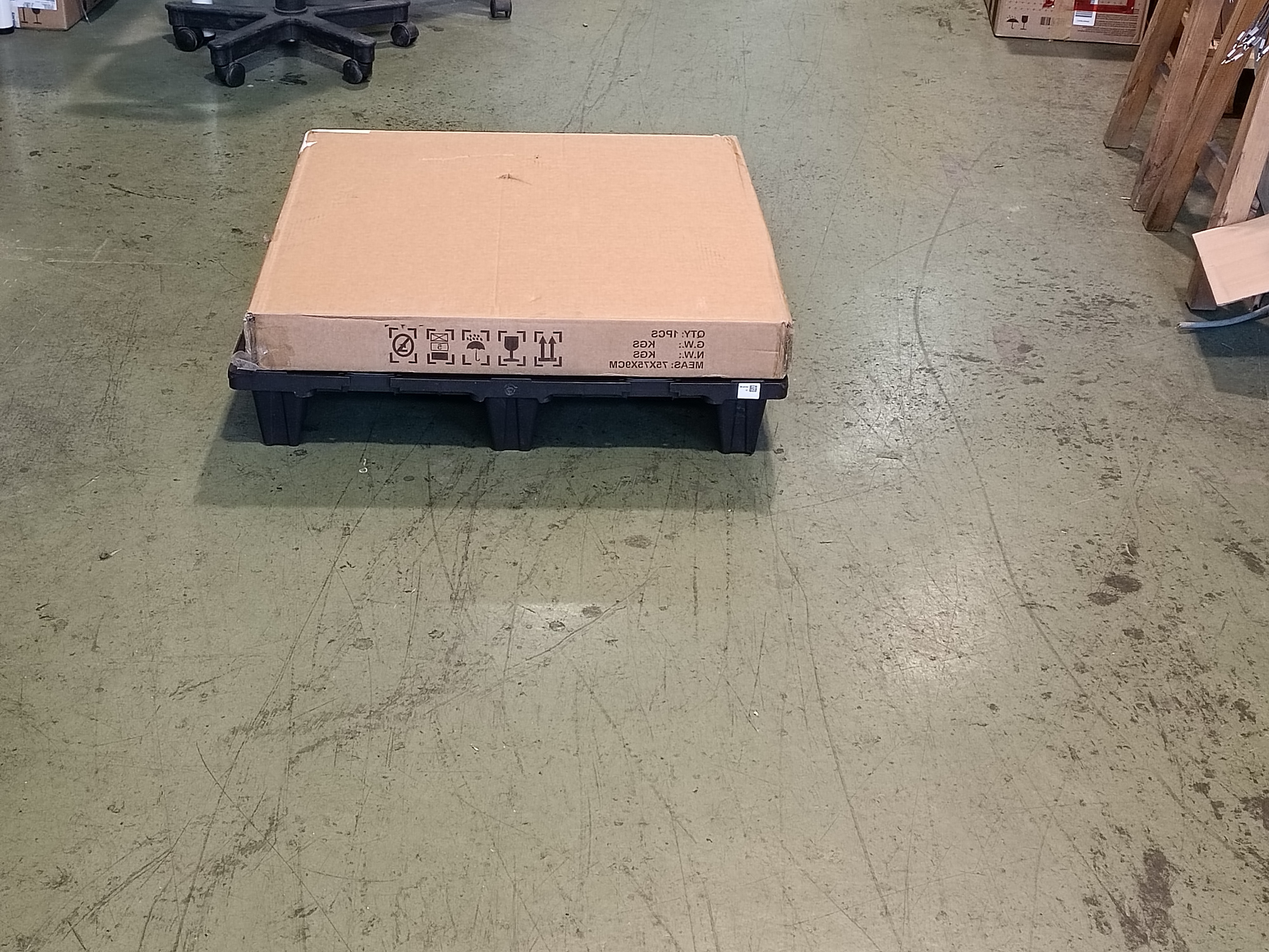block: (252, 395, 313, 459), (476, 406, 537, 462), (706, 405, 766, 456)
front: (231, 374, 796, 458)
hole pallet: (537, 397, 721, 464), (313, 397, 487, 449)
